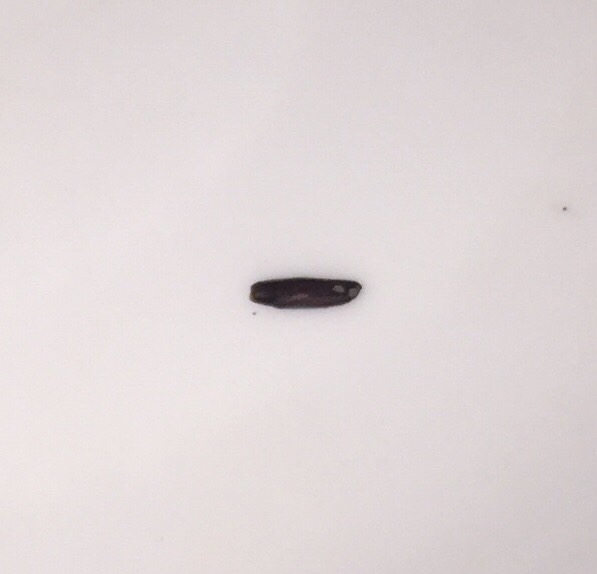Gao Nep Cam: (244, 257, 366, 322)
